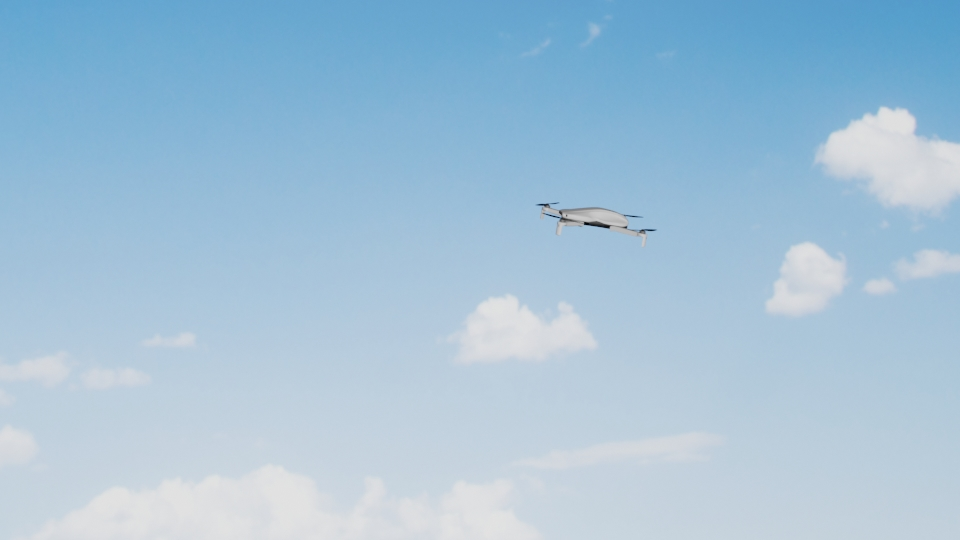drone: (536, 195, 655, 244)
